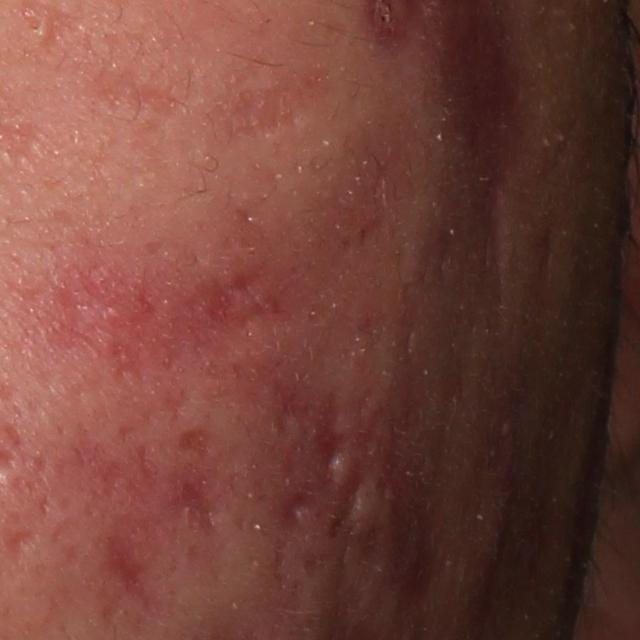atrophic_scar: (63, 24, 193, 118), (207, 60, 340, 145), (263, 371, 348, 480), (94, 532, 152, 611), (329, 462, 368, 538), (165, 482, 219, 536), (187, 274, 235, 327), (275, 483, 316, 532), (173, 420, 218, 462), (4, 525, 39, 565)
hypertrophic_scar: (351, 471, 398, 532), (325, 451, 356, 488)
